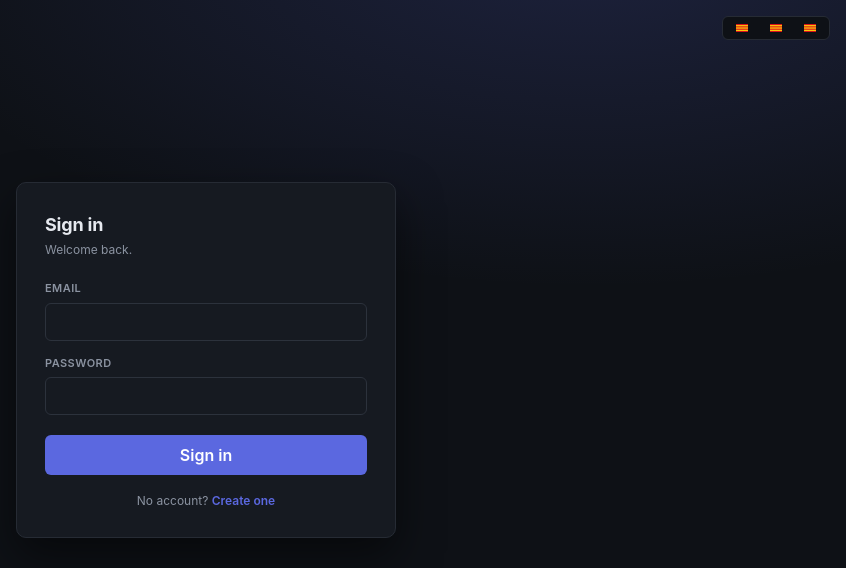
Login › surfaces the error message on a 401
Type "ada@acme.com" into the field labelled "Email".
click(206, 322); type("ada@acme.com")  # box [45, 302, 367, 340]
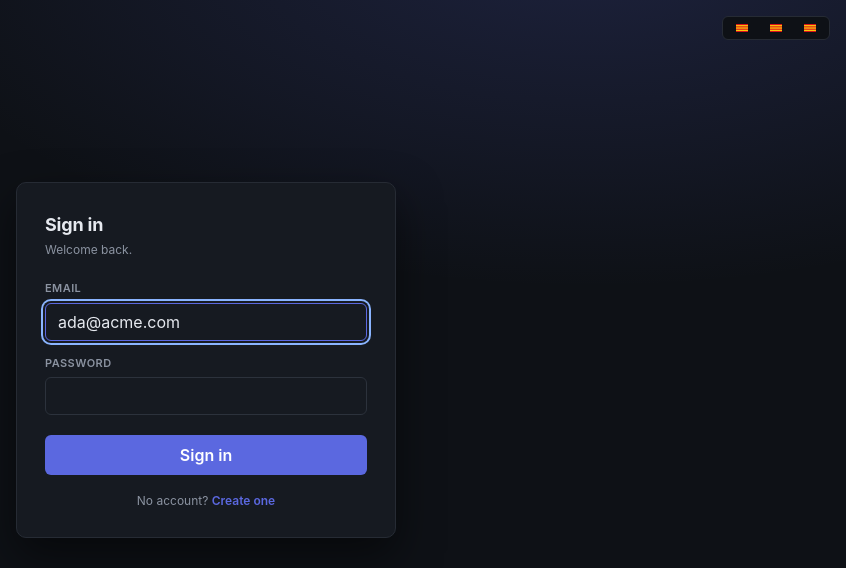
Type "wrongpass" into the password field labelled "Password".
click(206, 396); type("wrongpass")  # box [45, 377, 367, 415]
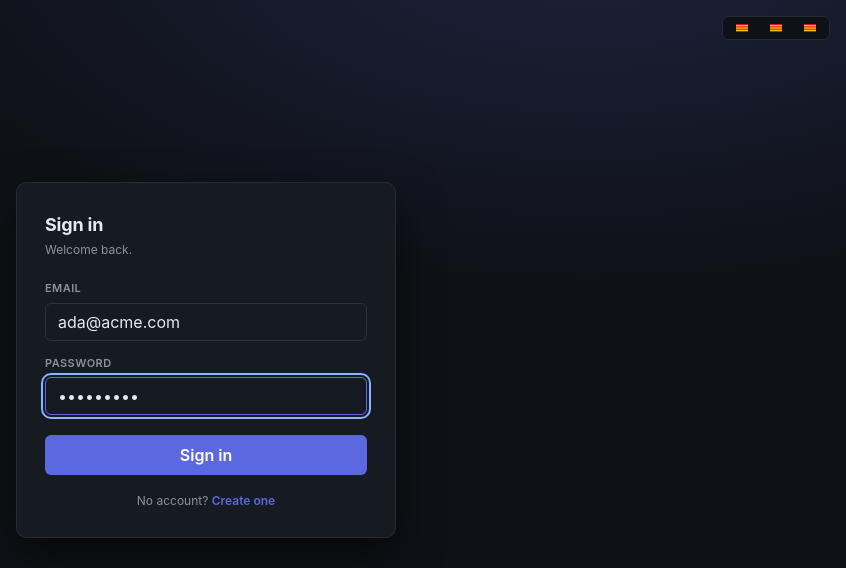
Click the button "Sign in".
click(206, 455)  # box [45, 435, 367, 475]
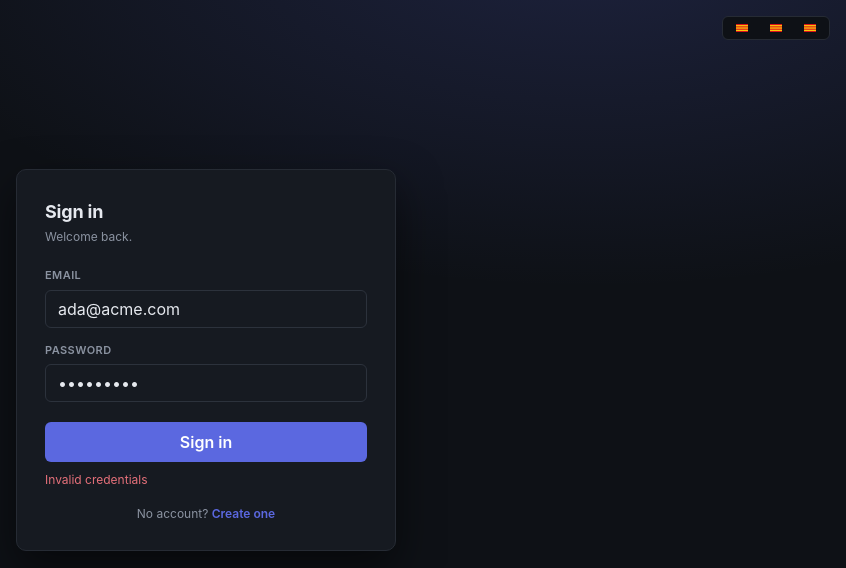
Expected: the text "Invalid credentials" is shown, [45, 472, 148, 487]
